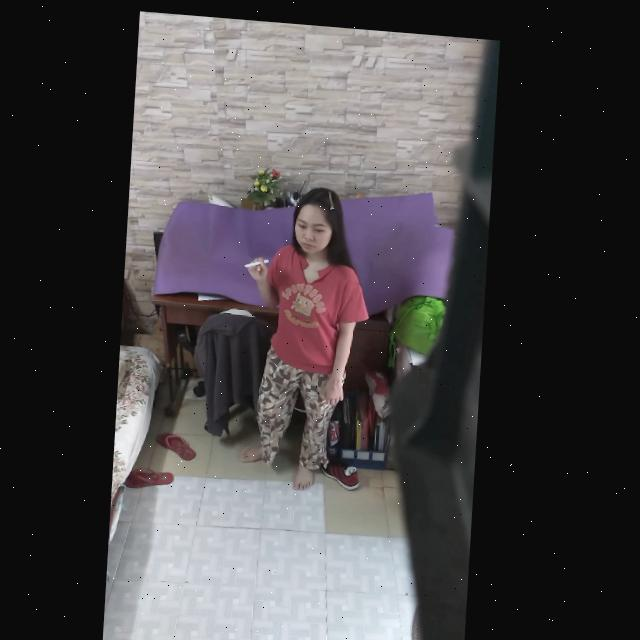cigarette: (248, 254, 271, 265)
